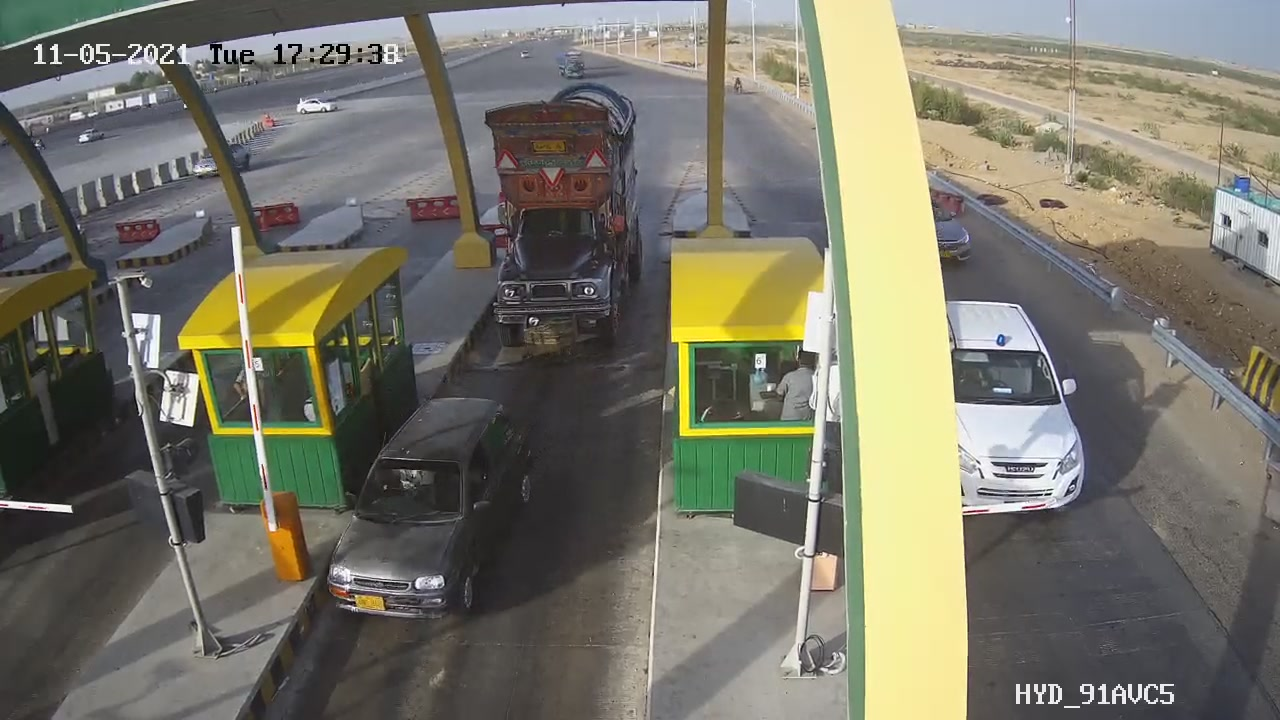F1: (314, 378, 560, 635)
F5: (473, 76, 648, 363)
